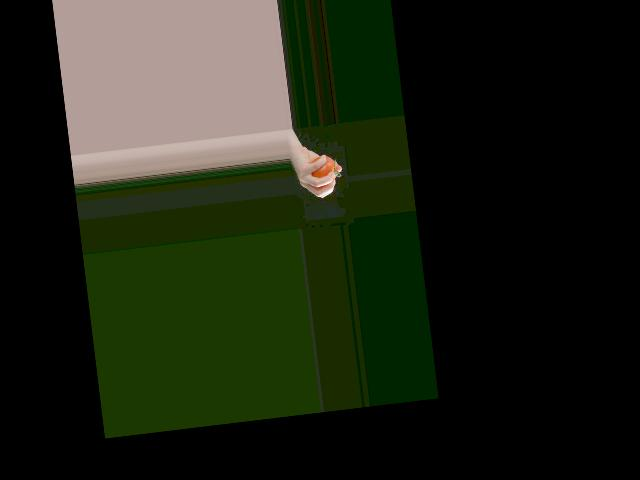tomato: (308, 154, 336, 182)
